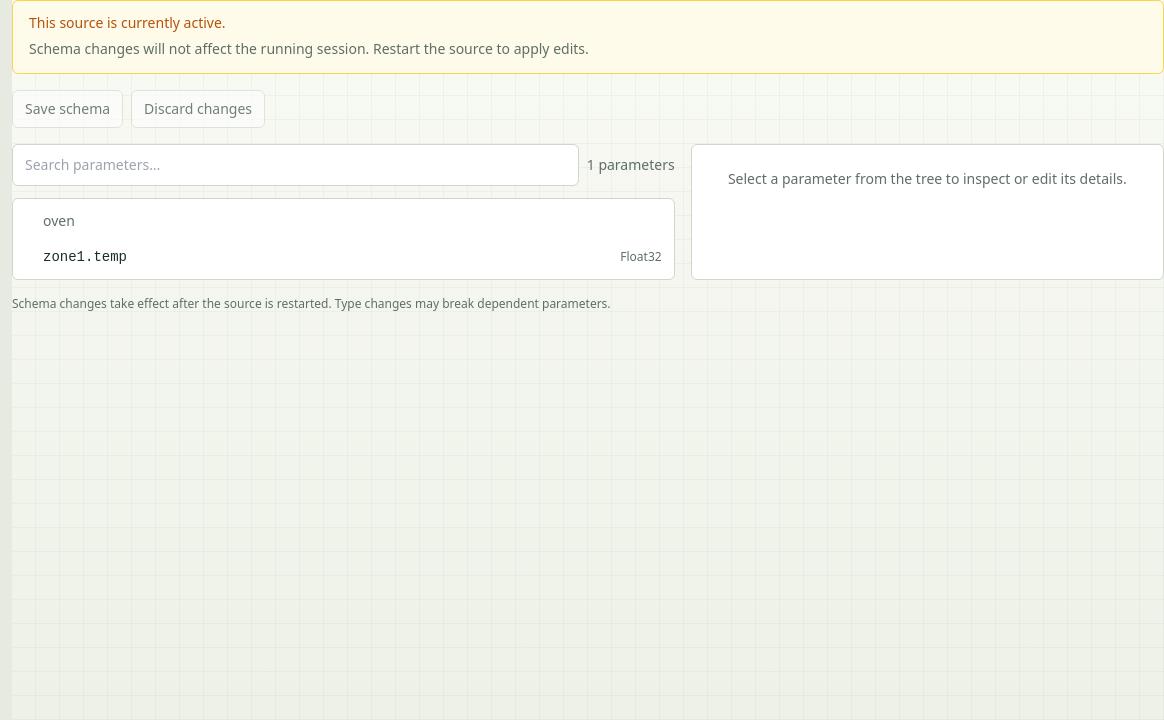
Test: DataSourceSchemaEditor — dependency warnings in UI › shows the original OPC UA declaration alongside the executable type
Click the text "zone1.temp" at (85, 257), box [43, 249, 127, 265]
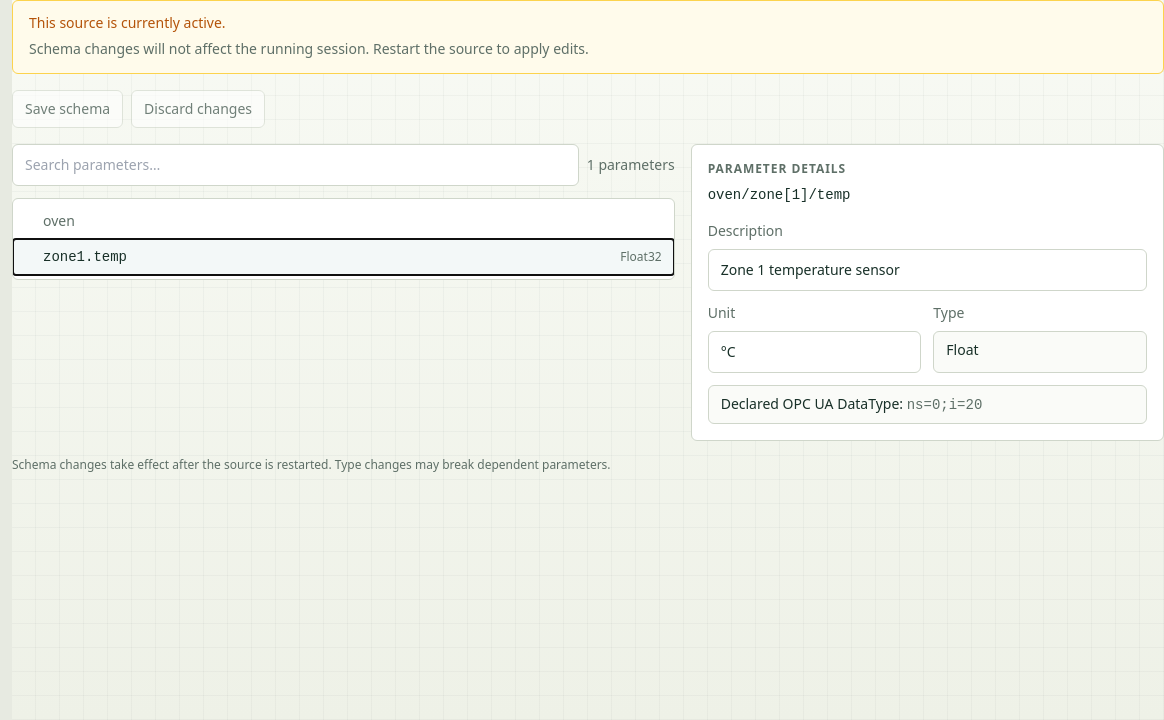
Expected: the text "Declared OPC UA DataType:" is shown, [721, 394, 907, 413]
Expected: the text "ns=0;i=20" is shown, [907, 397, 982, 413]
